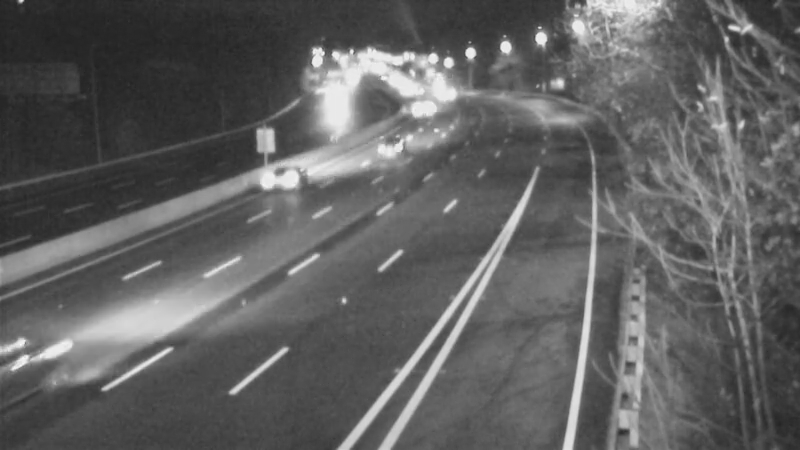vehicle: (244, 139, 324, 219), (396, 81, 446, 131), (366, 125, 416, 175), (307, 75, 357, 125)
